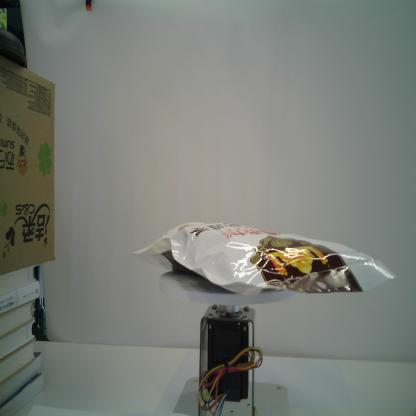Dried Food: (127, 219, 398, 300)
